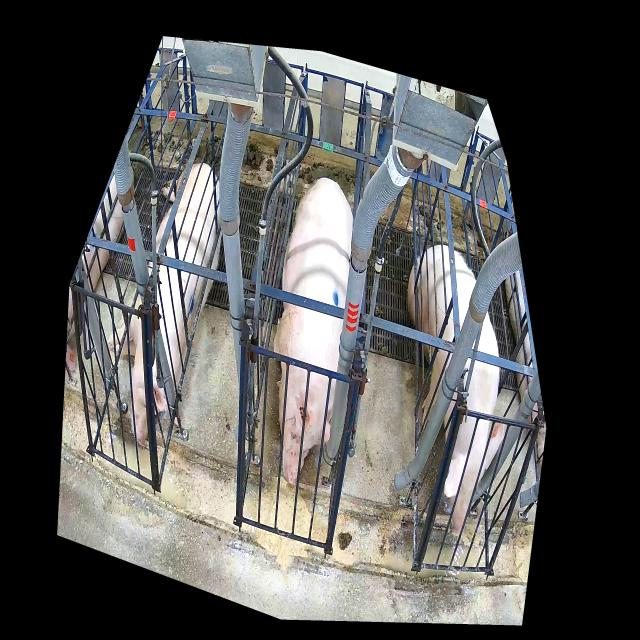pig: (108, 162, 222, 446), (407, 244, 504, 534), (273, 177, 353, 485)
